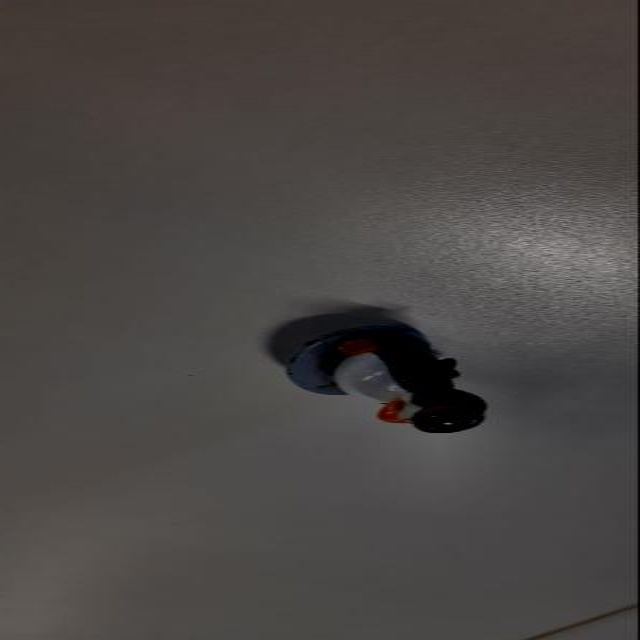Penguin: (263, 318, 497, 434)
